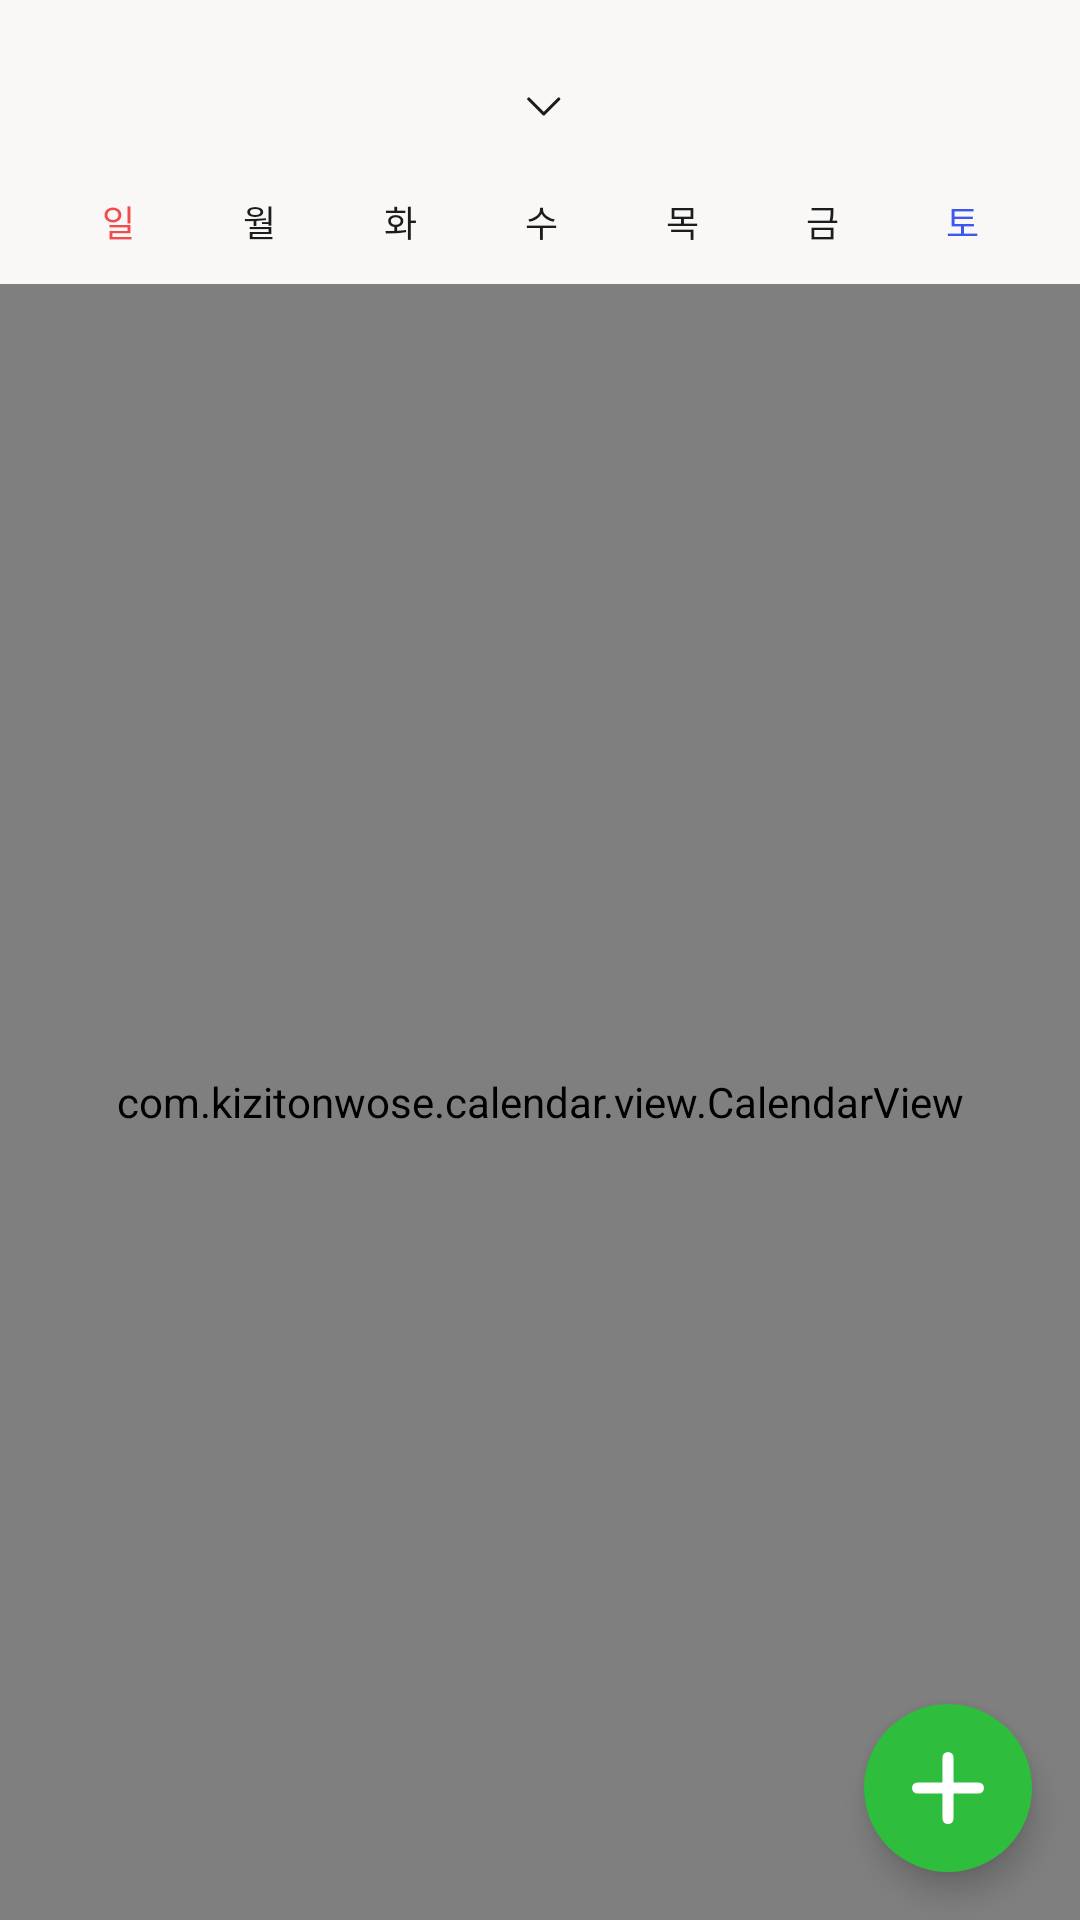

Icon bounding boxes for this 1080x1920 phone screenshot, format (x1, y1, x2, y2):
calendar fab plus: (864, 1704, 1032, 1872)
